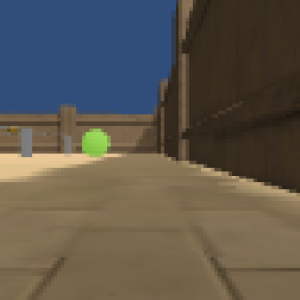goodGoal: (79, 122, 111, 159)
wall: (20, 127, 34, 160), (63, 133, 72, 156)
